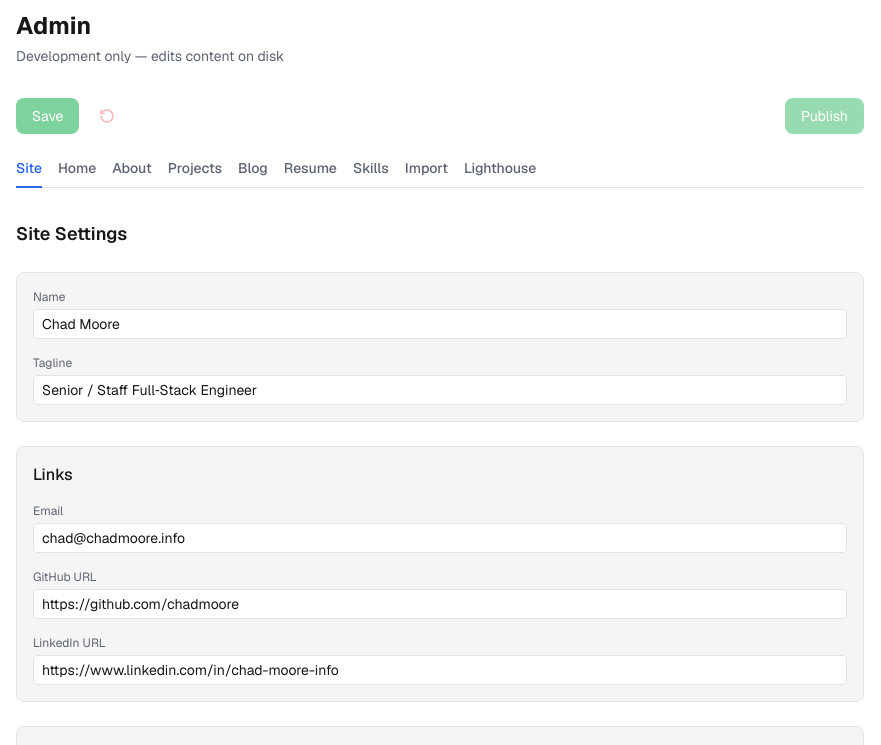
Test: AdminPage › switches to blog tab when clicked
The width and height of the screenshot is (881, 745).
Expected: the heading "Site Settings" is shown, [16,222,127,245]
Click the button "Blog".
click(253, 173)  # box [238,158,268,188]
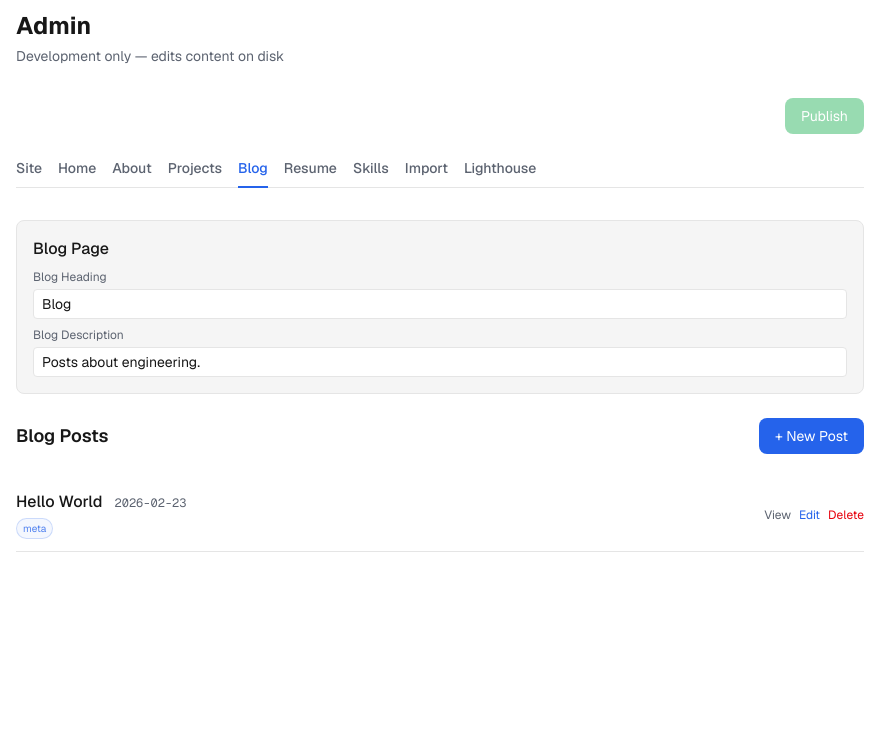
Now the heading "Blog Posts" is shown, box [16,422,108,450]
